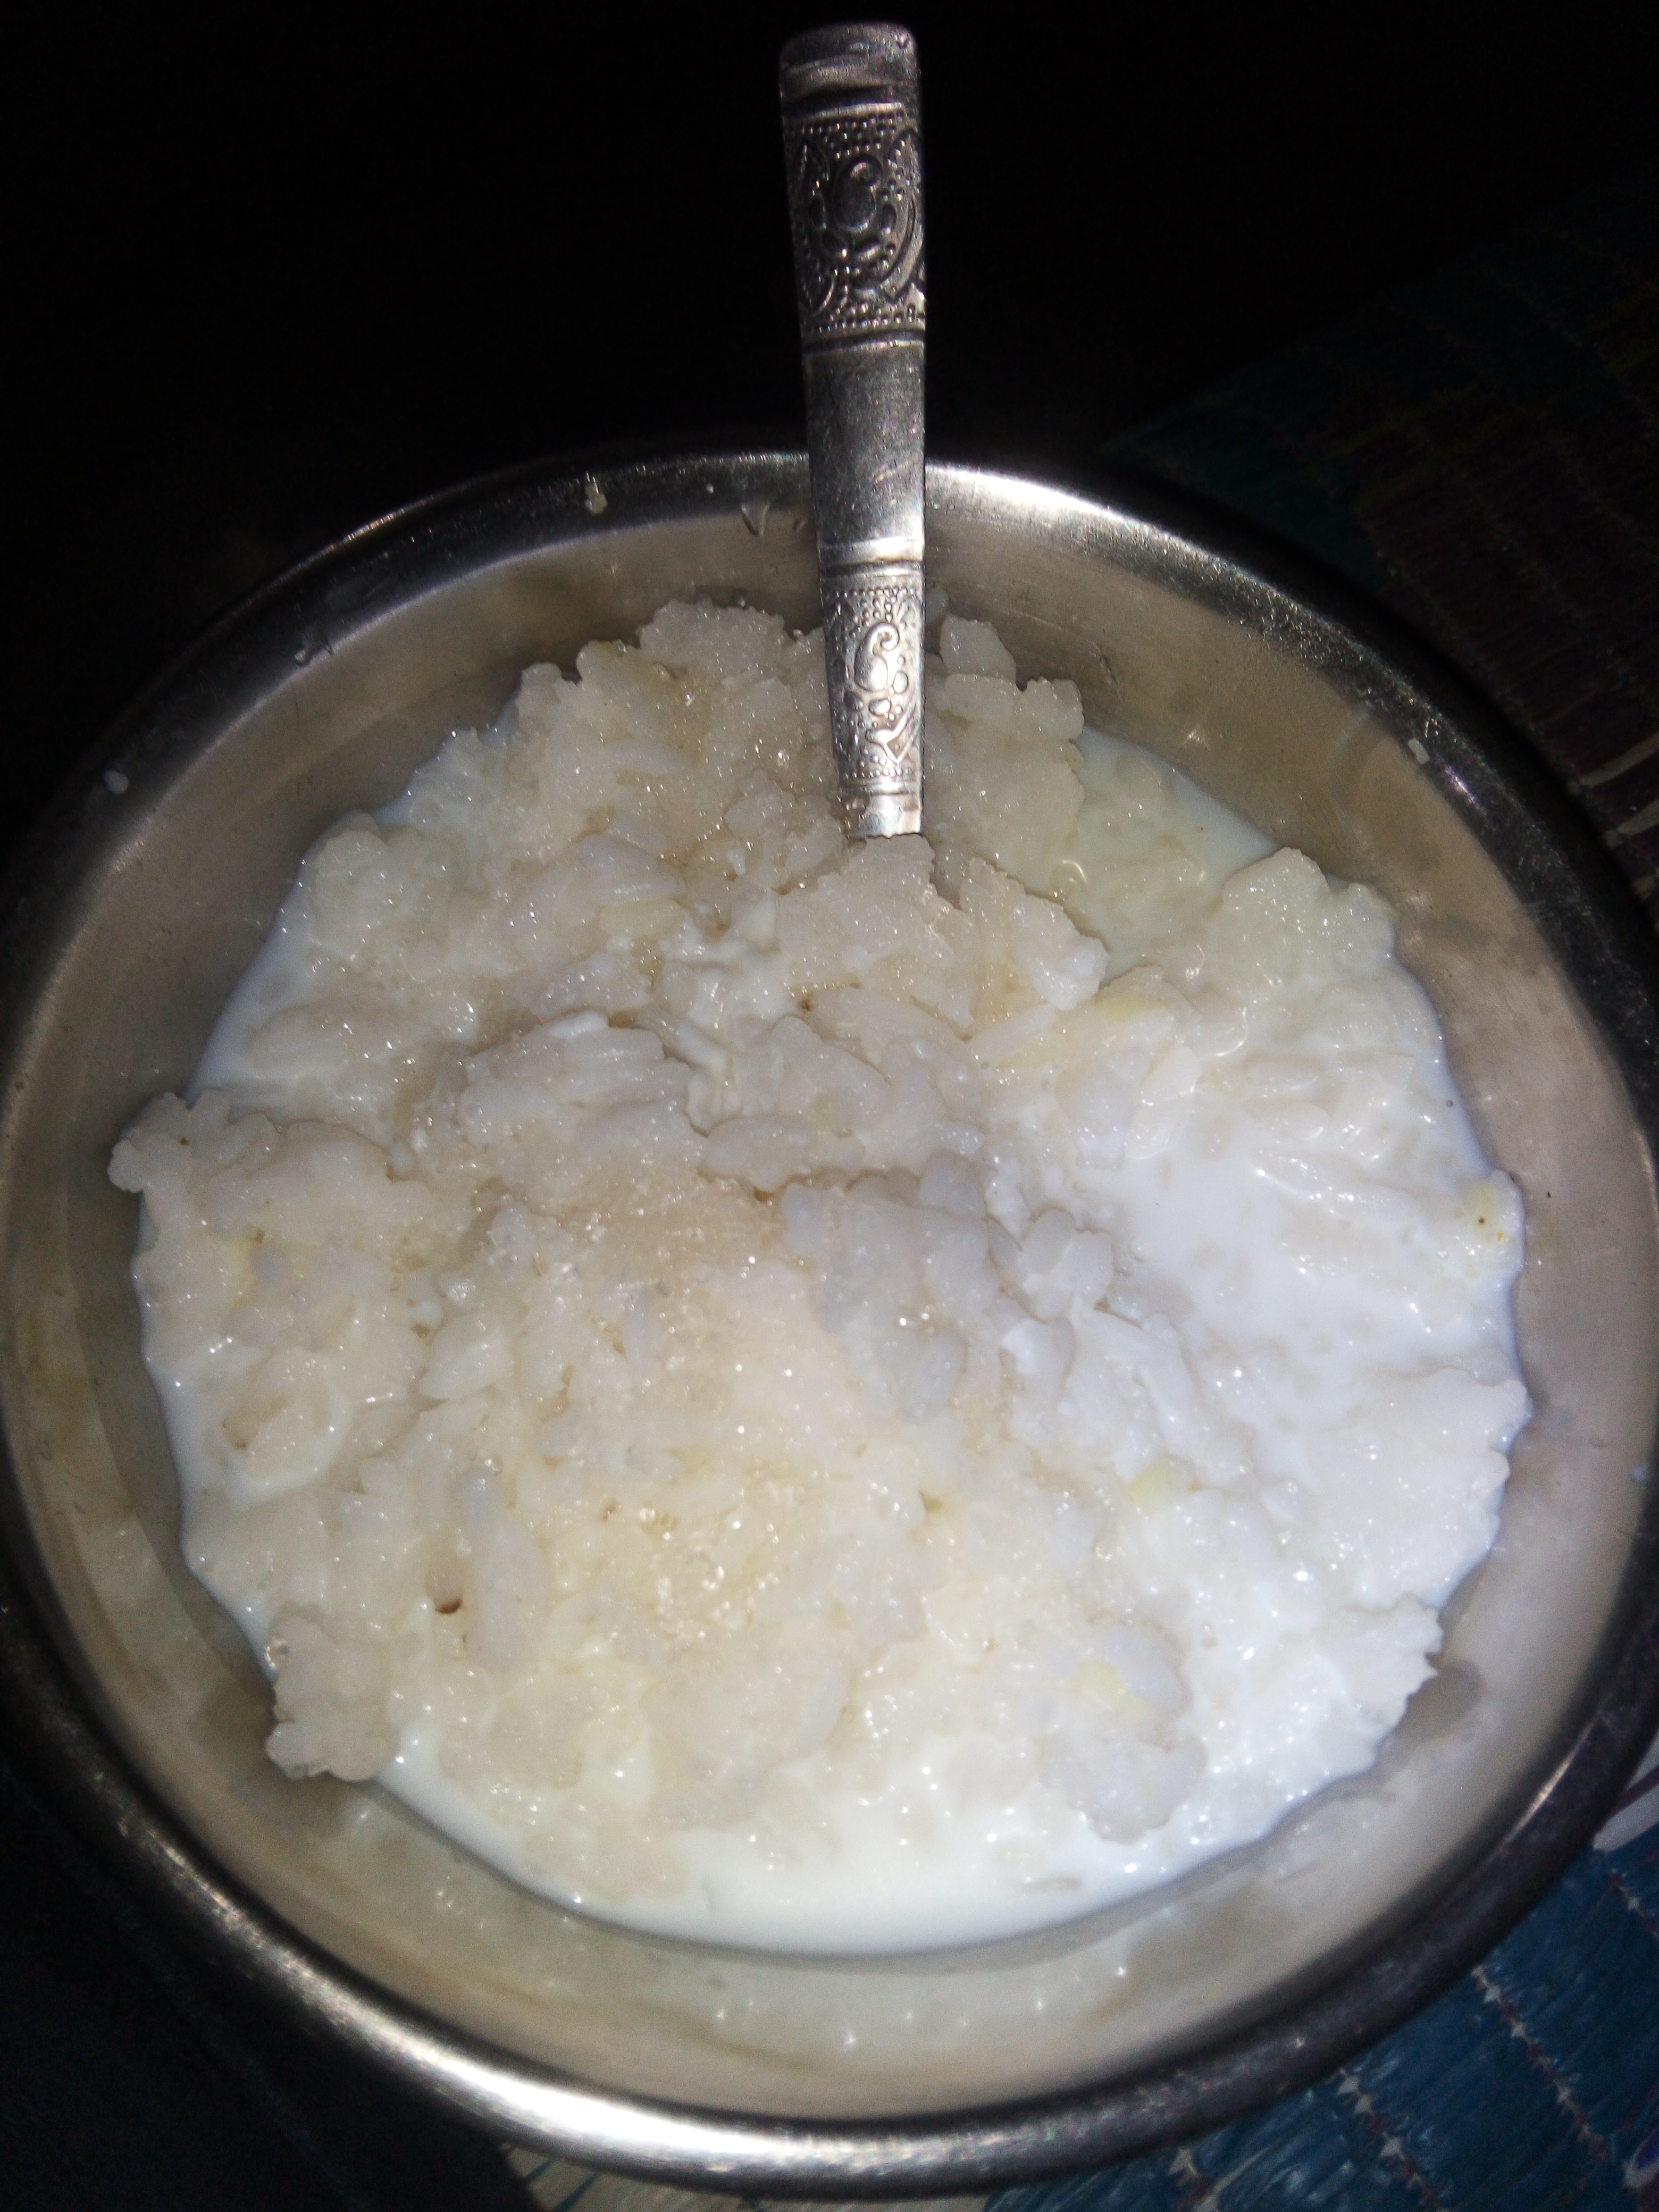food: (103, 583, 1547, 1980)
